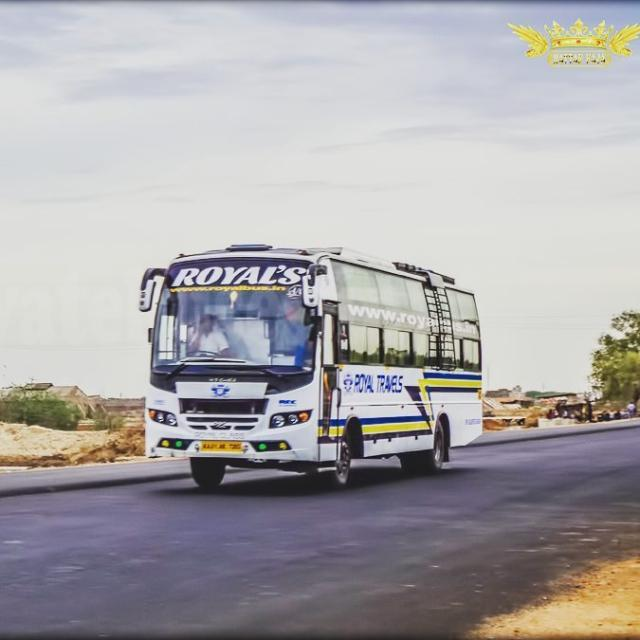Bus: (133, 240, 484, 490)
